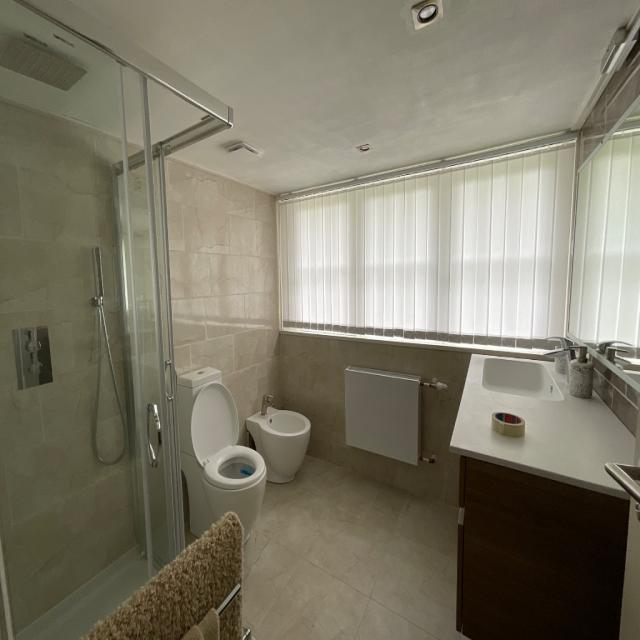douche: (0, 0, 234, 640)
toilet: (175, 362, 268, 546), (246, 386, 312, 486)
wastafel: (453, 446, 630, 640), (480, 340, 581, 404)
